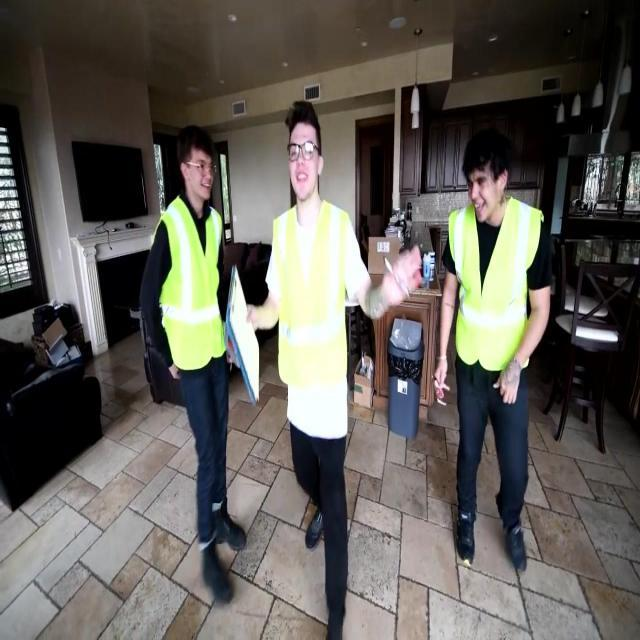reflective_jacket: (271, 196, 355, 432), (445, 194, 547, 377), (156, 195, 228, 377)
